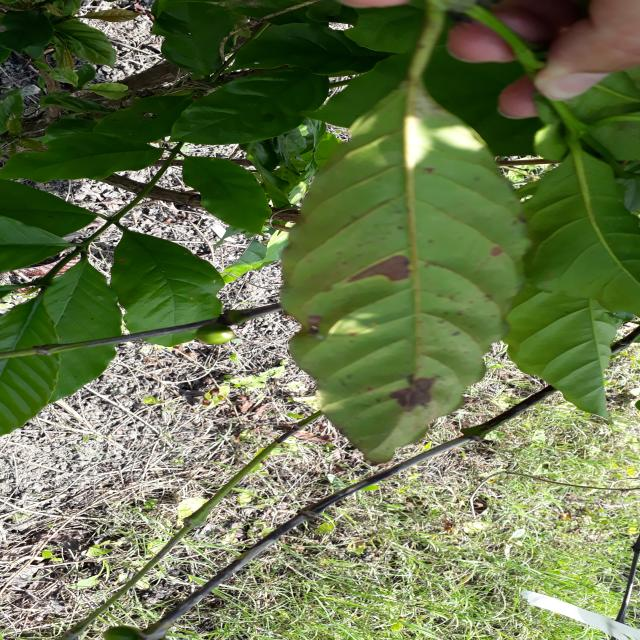Plaga-AranaRoja: (281, 64, 530, 466)
